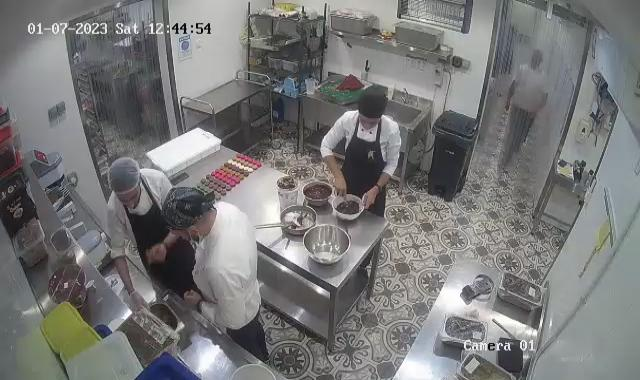hairnet: (107, 154, 145, 203)
no_hairnet: (161, 189, 208, 244), (358, 86, 388, 131)
